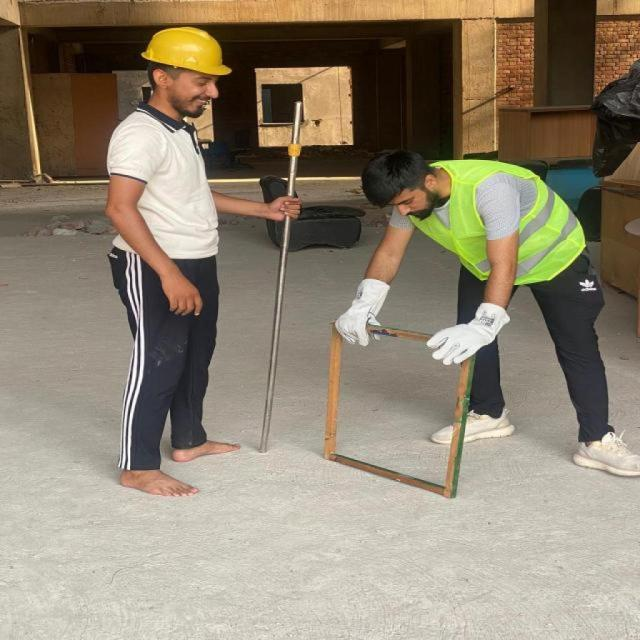Gloves-Detection: (433, 294, 496, 365), (336, 272, 382, 345)
